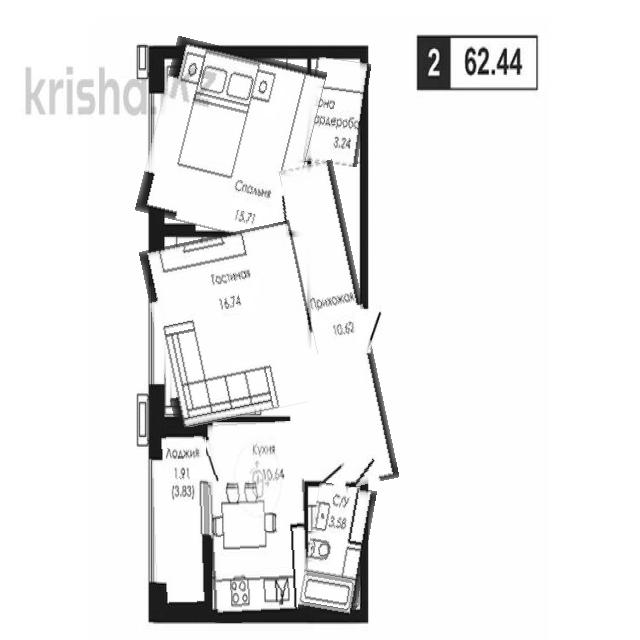balcony: (153, 427, 210, 614)
bathroom: (302, 483, 372, 620)
hallway: (294, 160, 383, 487)
kitchen: (208, 421, 308, 622)
living_room: (145, 44, 318, 240), (147, 227, 319, 423)
other: (306, 57, 367, 166)
